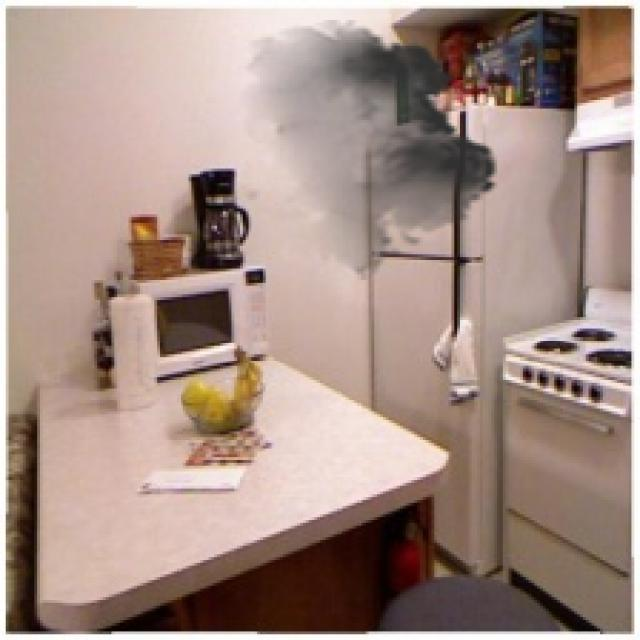Smoke: (232, 20, 508, 283)
